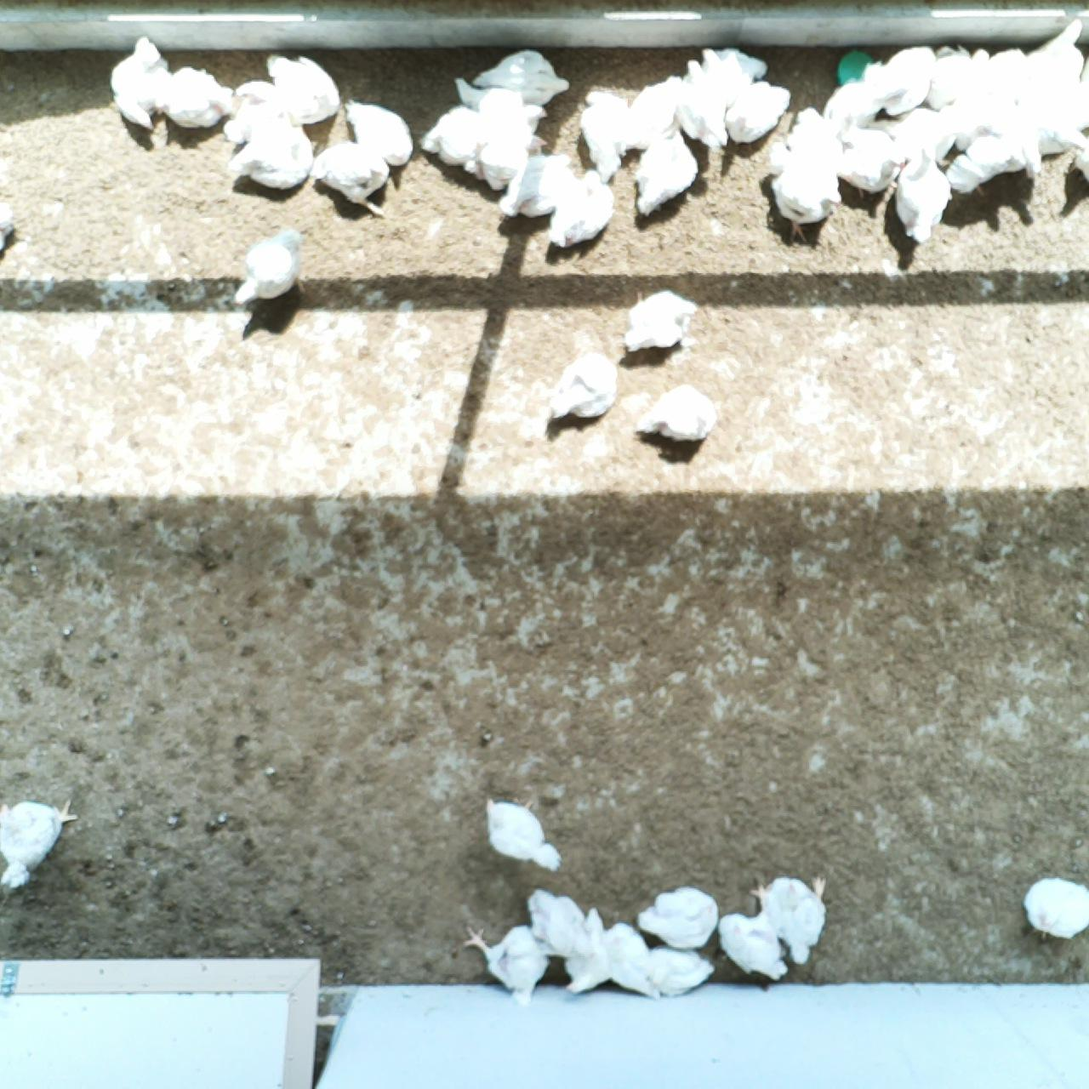chicken: (714, 883, 792, 986), (748, 871, 831, 967), (0, 794, 78, 894), (464, 920, 552, 1004), (226, 106, 313, 190), (229, 224, 309, 311), (767, 155, 842, 245), (950, 106, 1025, 195), (891, 140, 953, 246), (309, 136, 391, 216), (523, 884, 606, 963), (109, 35, 172, 134), (483, 794, 564, 869), (545, 166, 616, 251), (471, 47, 574, 105), (267, 51, 346, 126), (831, 126, 910, 200), (621, 284, 703, 355), (635, 882, 720, 950), (496, 153, 579, 222), (635, 380, 721, 446), (546, 349, 621, 424), (863, 41, 937, 117), (343, 95, 416, 171), (634, 130, 699, 215), (453, 74, 548, 130), (674, 58, 730, 152), (578, 88, 632, 185), (419, 103, 496, 171), (151, 65, 235, 127), (990, 83, 1043, 181), (1029, 15, 1087, 104), (599, 921, 663, 1000), (1022, 872, 1089, 946), (723, 79, 794, 148), (470, 131, 549, 192), (822, 75, 907, 131), (626, 73, 686, 150), (884, 103, 961, 163), (644, 939, 718, 1000), (562, 905, 610, 996), (928, 42, 990, 111), (221, 76, 281, 147), (1019, 96, 1089, 156), (785, 107, 848, 170), (700, 42, 751, 108), (978, 46, 1029, 106), (0, 187, 18, 254), (423, 209, 430, 210)
